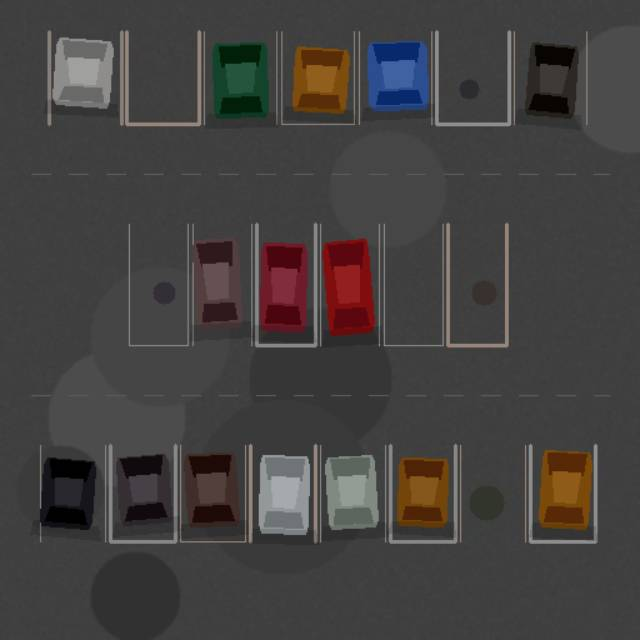space-empty: (384, 224, 443, 345), (447, 224, 506, 345), (129, 224, 187, 345), (126, 31, 199, 124), (436, 31, 509, 124), (460, 445, 525, 541)
space-occupied: (256, 224, 315, 345), (320, 224, 379, 345), (193, 224, 251, 345), (281, 31, 354, 124), (49, 31, 121, 124), (204, 31, 276, 124), (359, 31, 431, 124), (514, 31, 586, 124), (40, 445, 105, 541), (110, 445, 175, 541), (180, 445, 245, 541), (250, 445, 315, 541), (320, 445, 385, 541), (390, 445, 455, 541), (530, 445, 595, 541)
